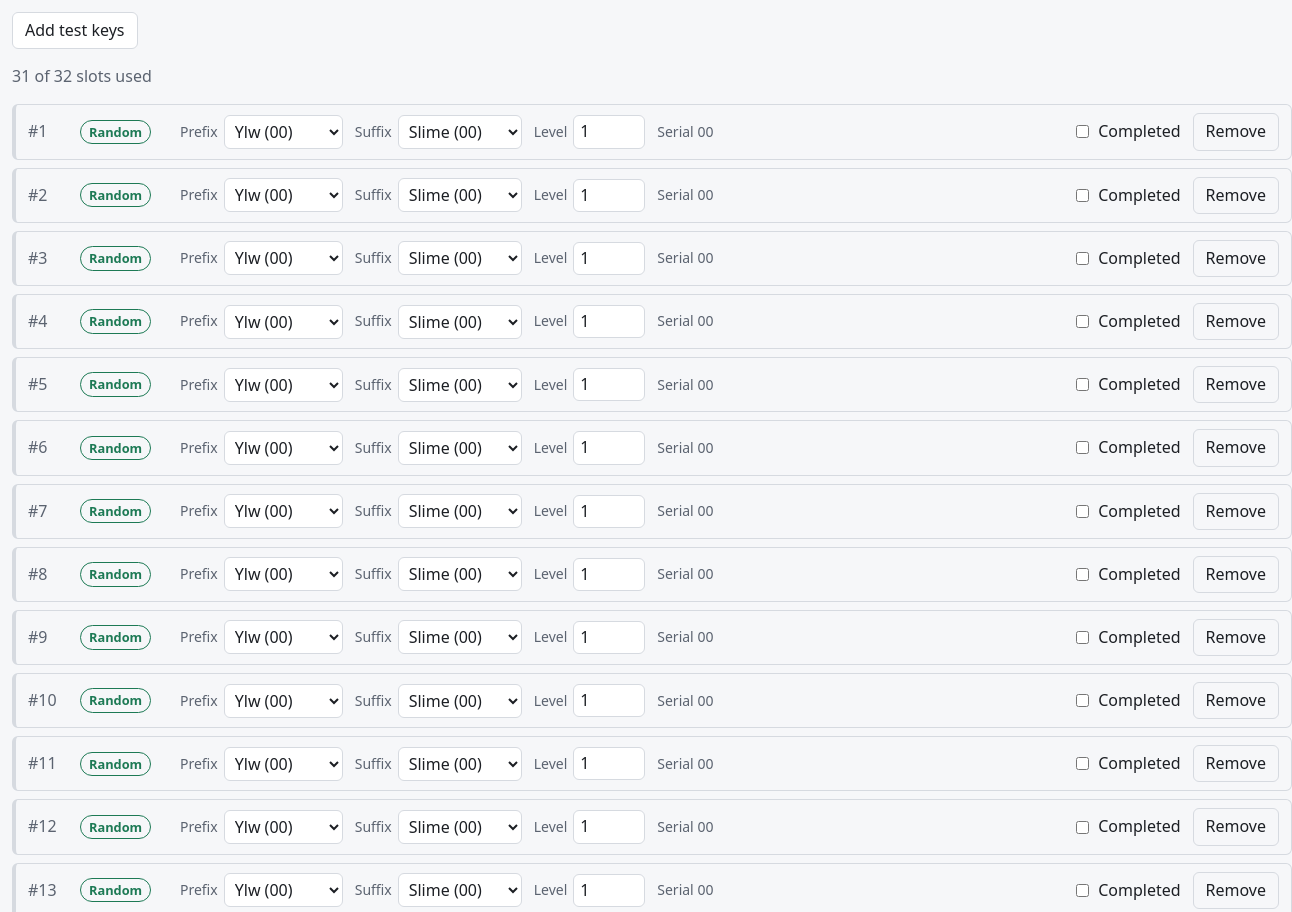
MagicKeysEditor › shows an error and changes nothing when a preset does not fit
Click the button "Add test keys" at [75, 31], box [12,12,138,49]
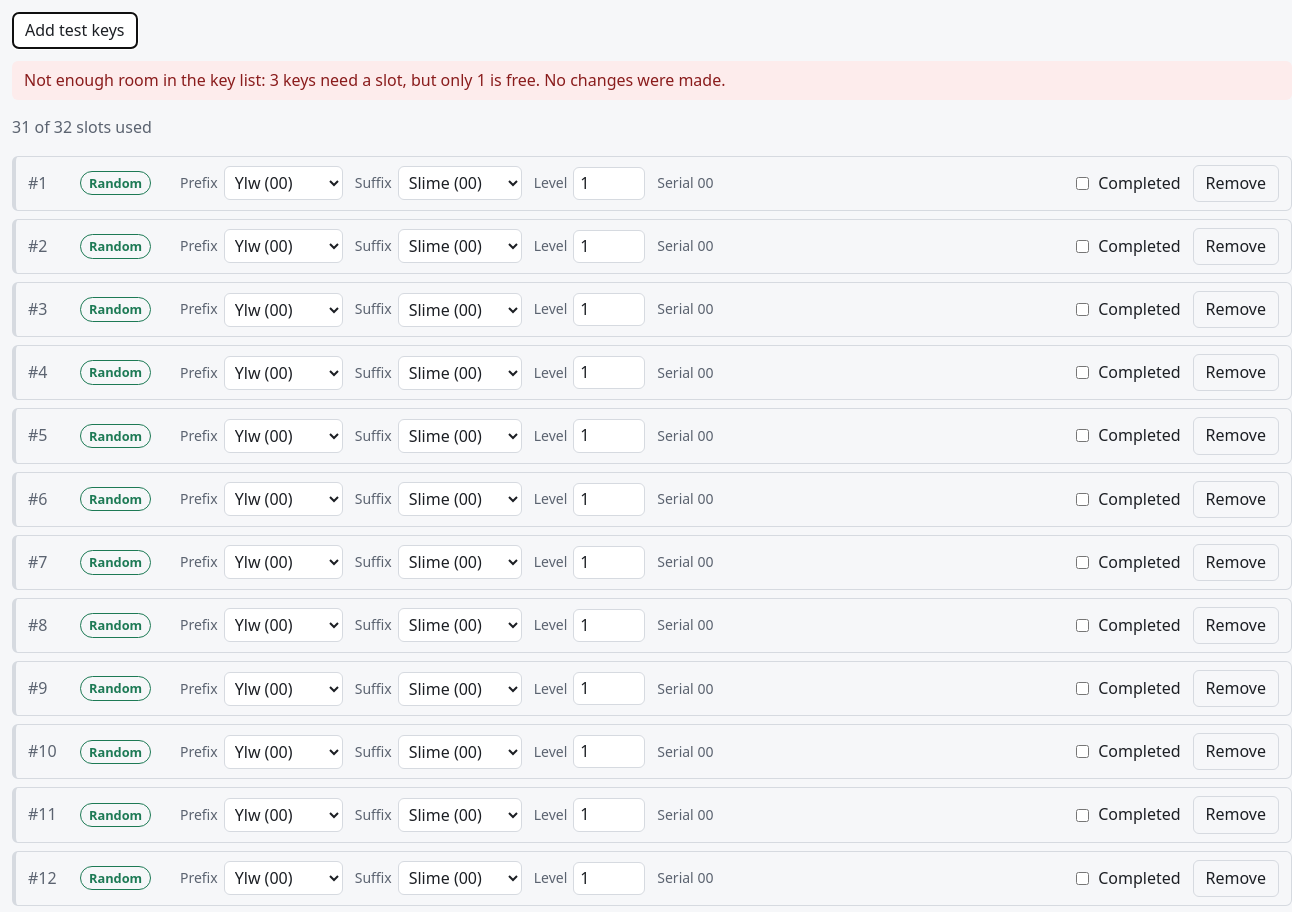
Now the message shows "No changes were made", box [24,69,726,91]
